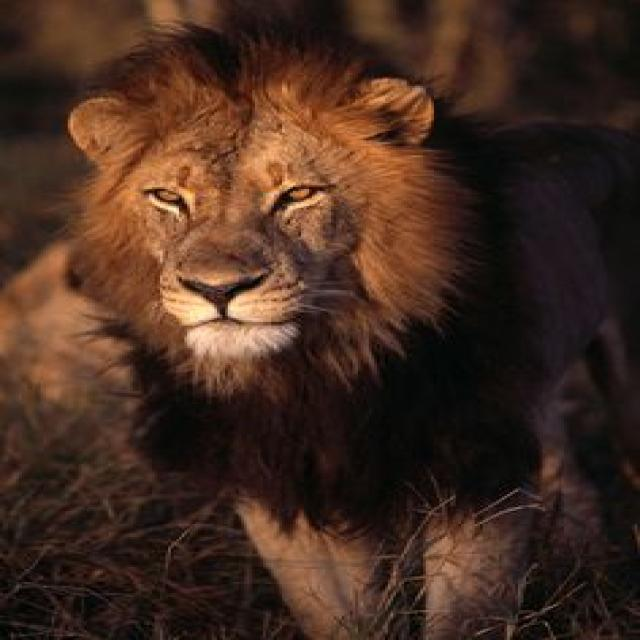Carnivorous: (62, 30, 640, 640)
